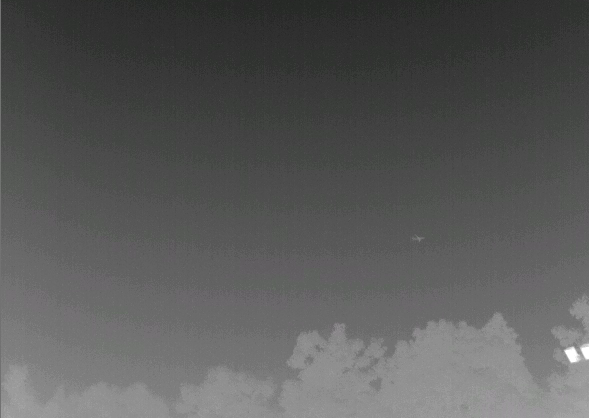dim target: (412, 233, 426, 243)
